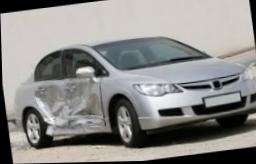Door: (63, 46, 103, 130), (34, 48, 65, 130)
